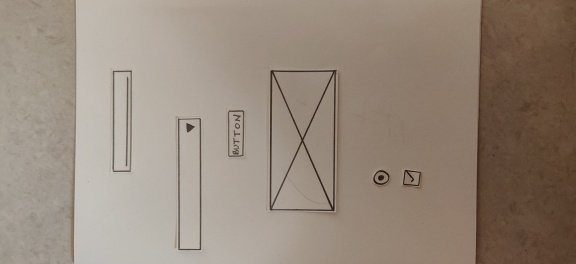button: (224, 107, 248, 161)
checkbox: (399, 166, 424, 192)
dropdown: (171, 112, 208, 255)
img: (264, 66, 342, 217)
radio: (369, 166, 392, 189)
text: (107, 66, 138, 177)
